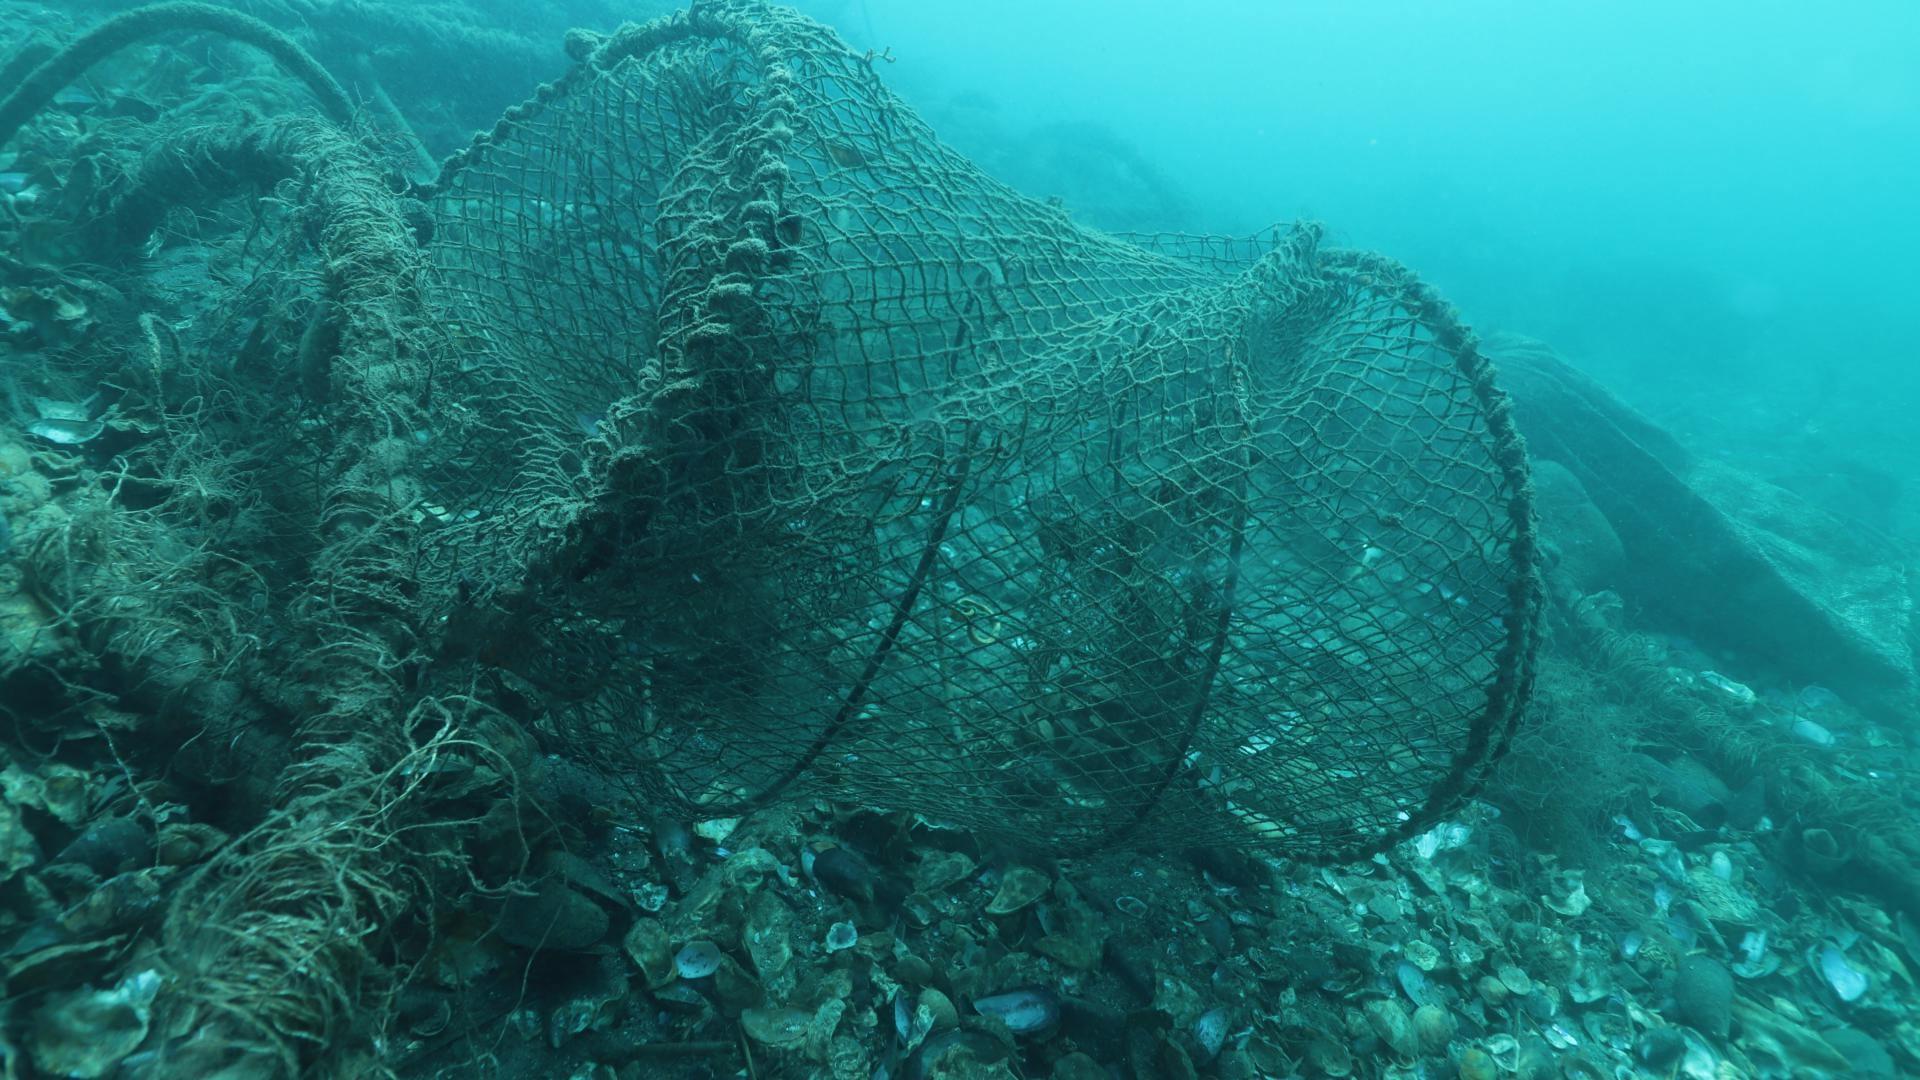spring fish trap: (392, 12, 1540, 847)
